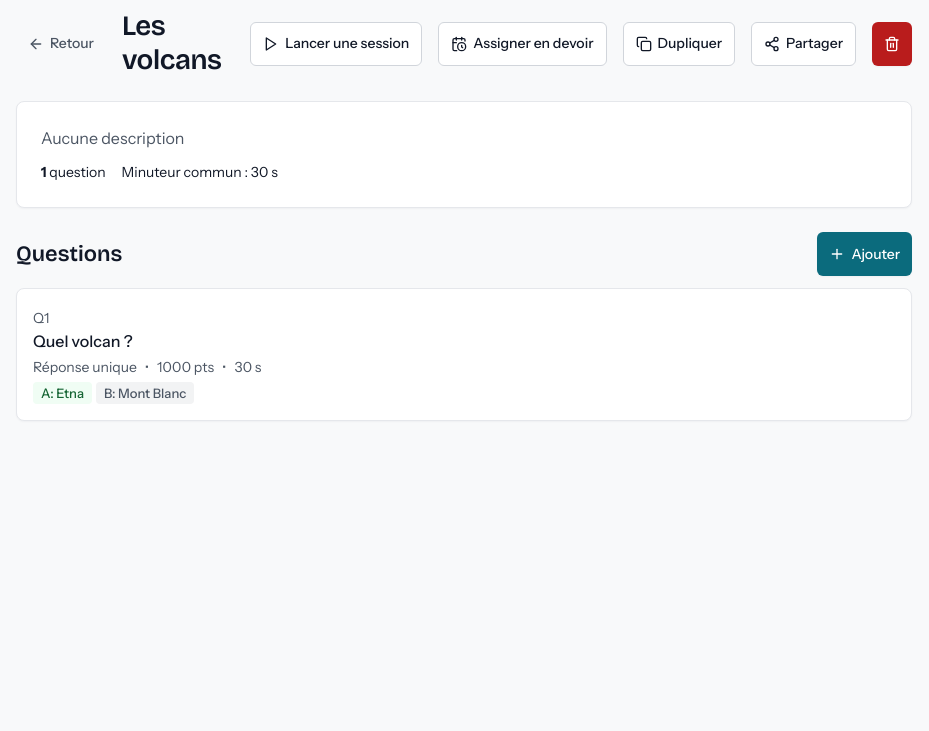
Scenario: Page du quiz : dupliquer et partager › révoque le lien seulement après confirmation
Click the button "Partager": (804, 44) [751,22,856,66]
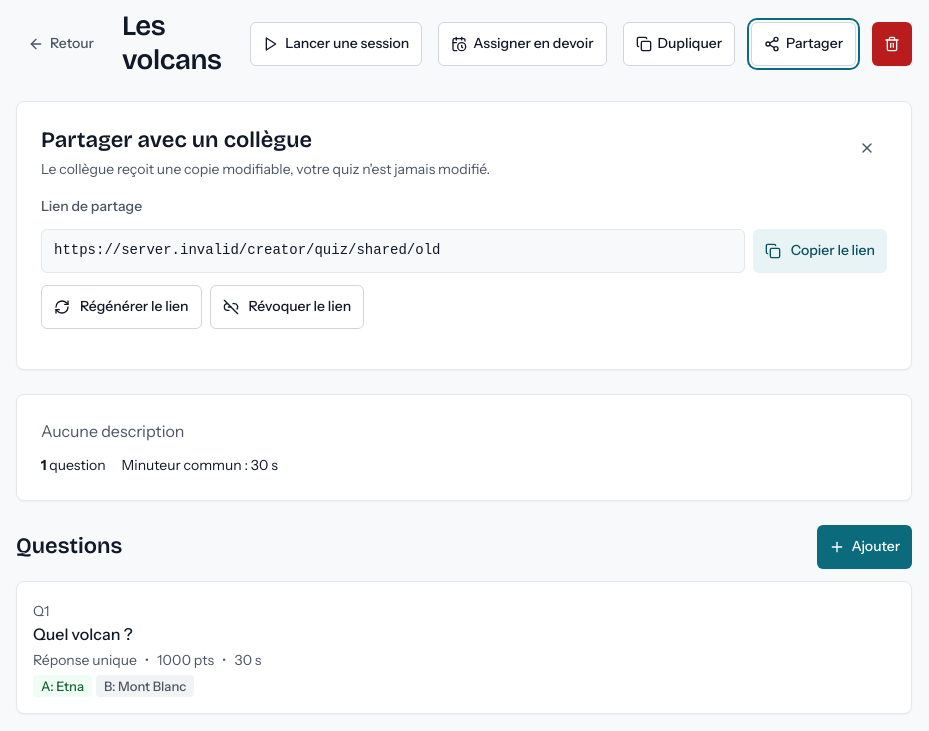
Click the button "Révoquer le lien": (287, 307) [210,285,364,329]
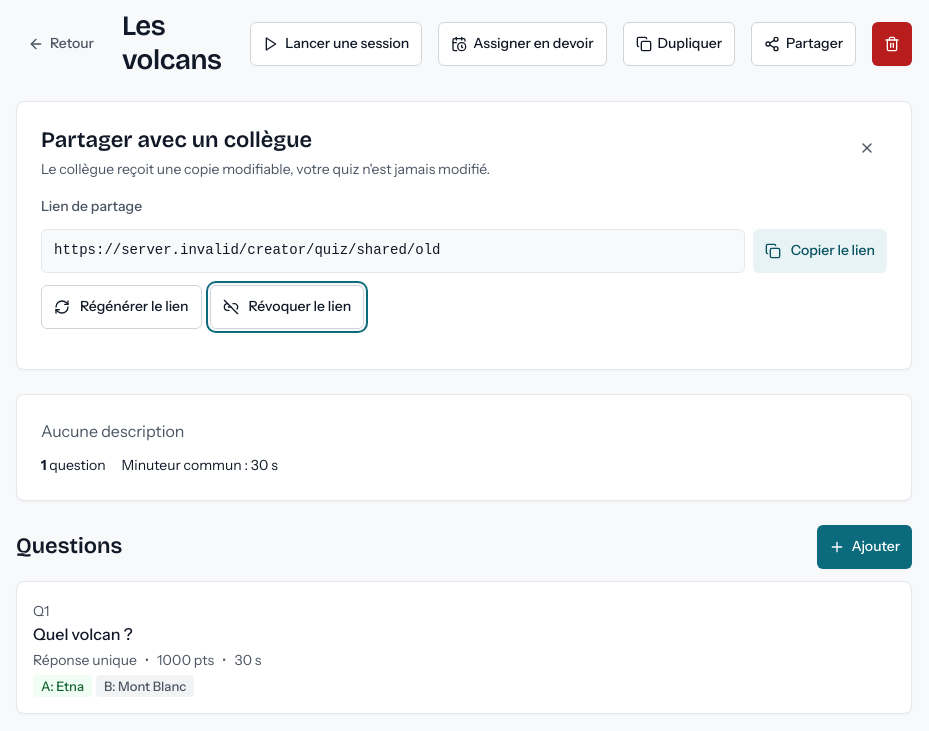
Click the button "Révoquer le lien": (287, 307) [210,285,364,329]
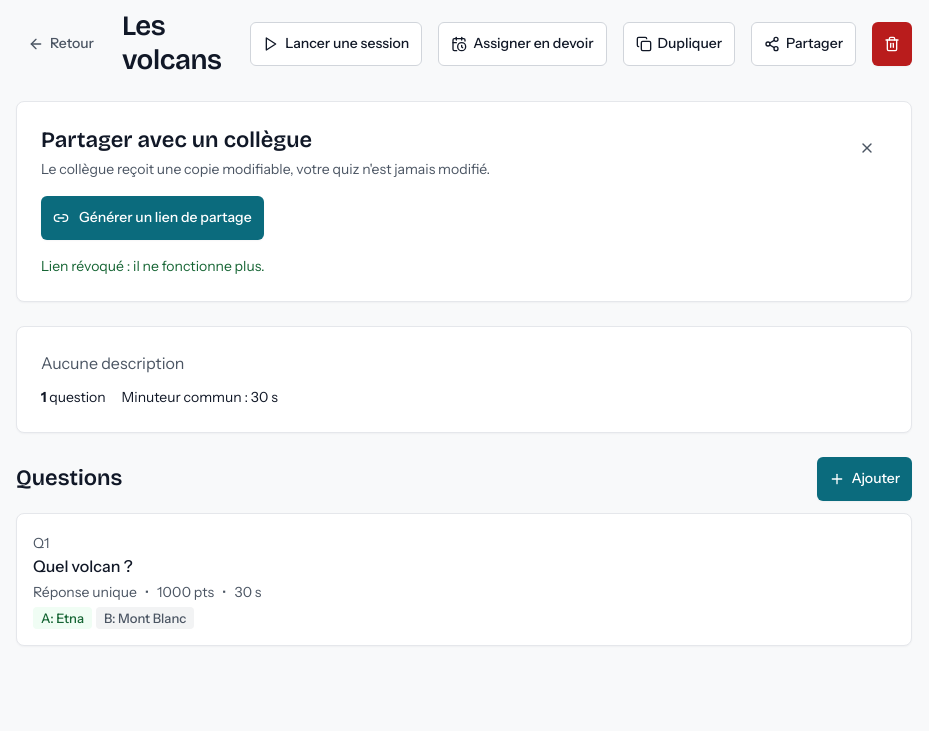
Now the text "Lien révoqué : il ne fonctionne plus." is shown, box [41,257,264,275]
Now the button "Générer un lien de partage" is shown, box [41,196,264,240]
